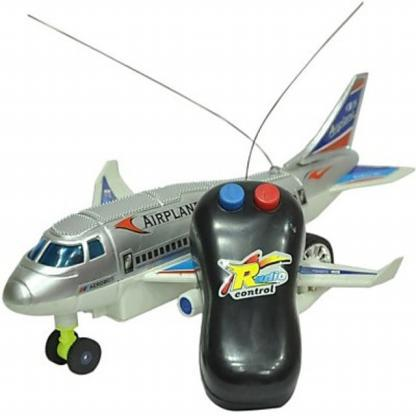CIV_Plane: (0, 71, 405, 334)
